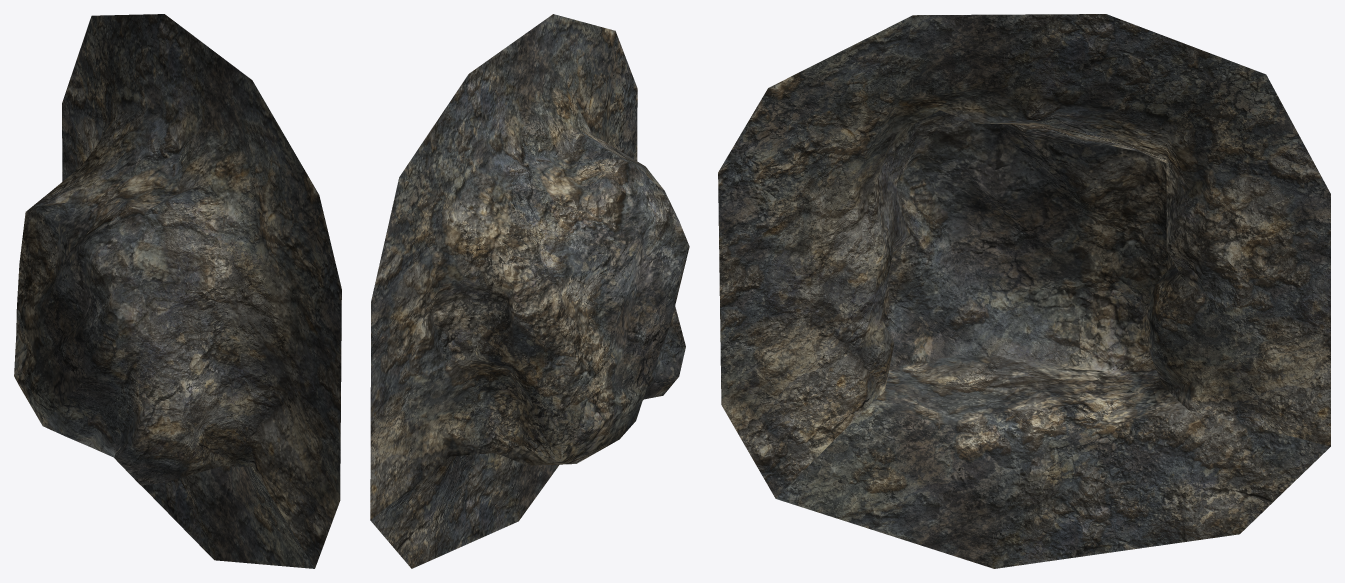
The model's file is Module20.fbx.
The picture shows the model from 3 angles, left to right: view 1: azimuth 30°, elevation 25°; view 2: azimuth 150°, elevation 25°; view 3: azimuth 270°, elevation 25°; orthographic projection. The views are drawn at different scales.
Parts seen in each view (by area): view 1: cave_el20_250_Group40187; view 2: cave_el20_250_Group40187; view 3: cave_el20_250_Group40187.
Boxes of the visible parts, left/top/right/bottom form: cave_el20_250_Group40187: left=14, top=14, right=341, bottom=568; cave_el20_250_Group40187: left=370, top=14, right=689, bottom=568; cave_el20_250_Group40187: left=718, top=14, right=1330, bottom=568.
Bounding box in the file's own units: 2.65 × 8.47 × 8.46.
